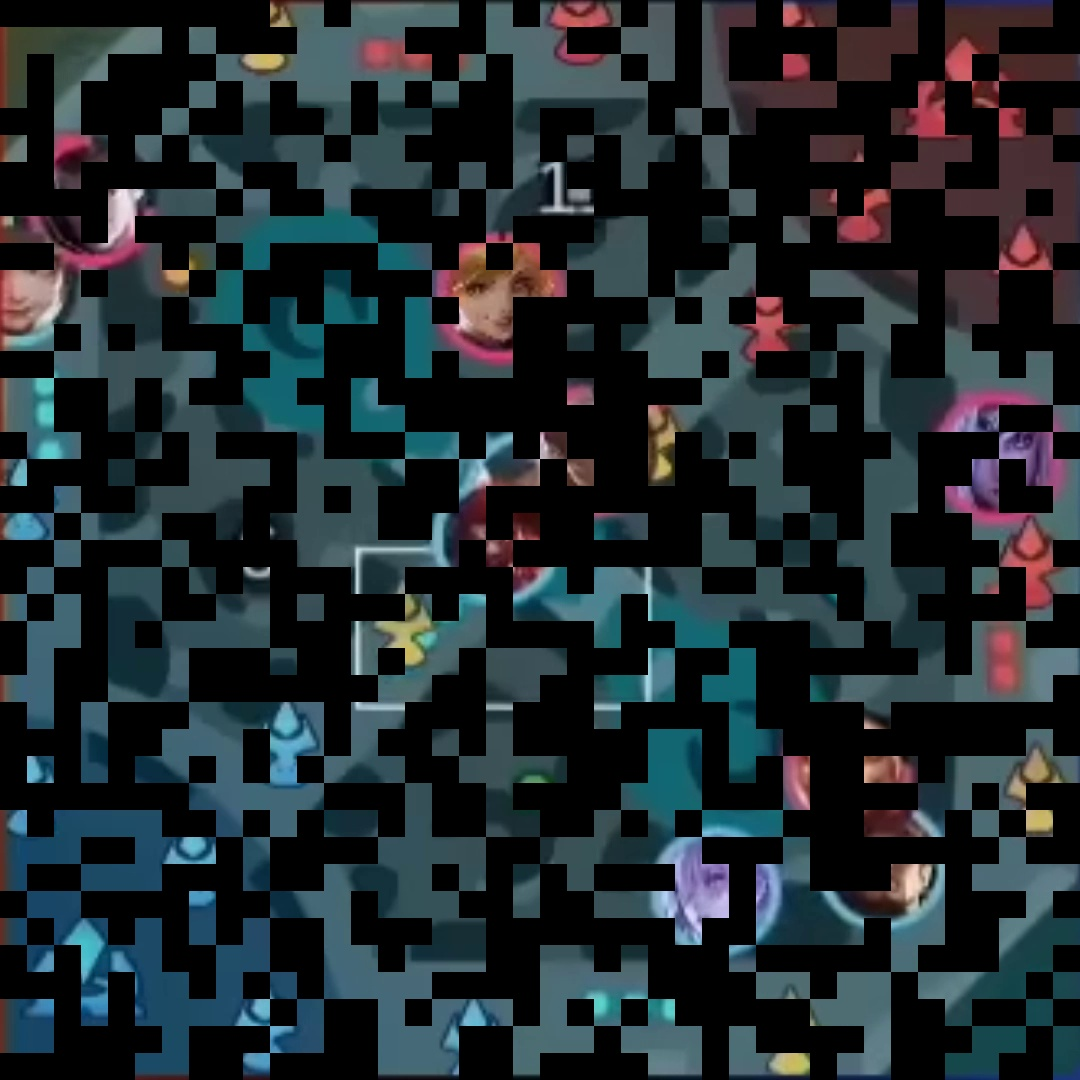Chou: (539, 392, 652, 504)
Claude: (42, 145, 143, 251)
Fanny: (448, 243, 550, 352)
Lapu-Lapu: (827, 823, 941, 928)
Masha: (794, 716, 899, 821)
Minotaur: (449, 491, 543, 589)
Novaria: (661, 838, 759, 945)
Valentina: (940, 395, 1058, 521)
Wanwan: (1, 228, 70, 328)
